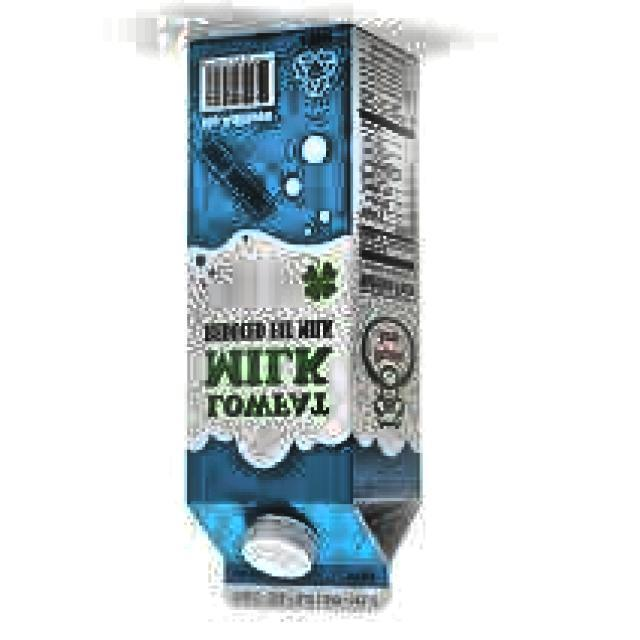cardboard: (181, 24, 423, 619)
